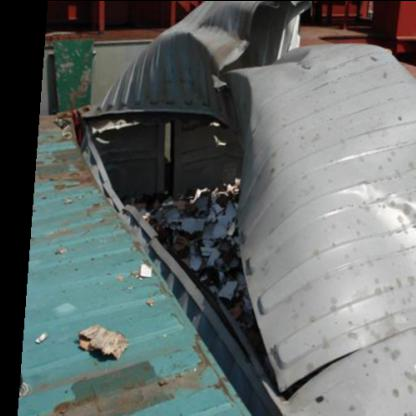Damage: (105, 74, 294, 374)
